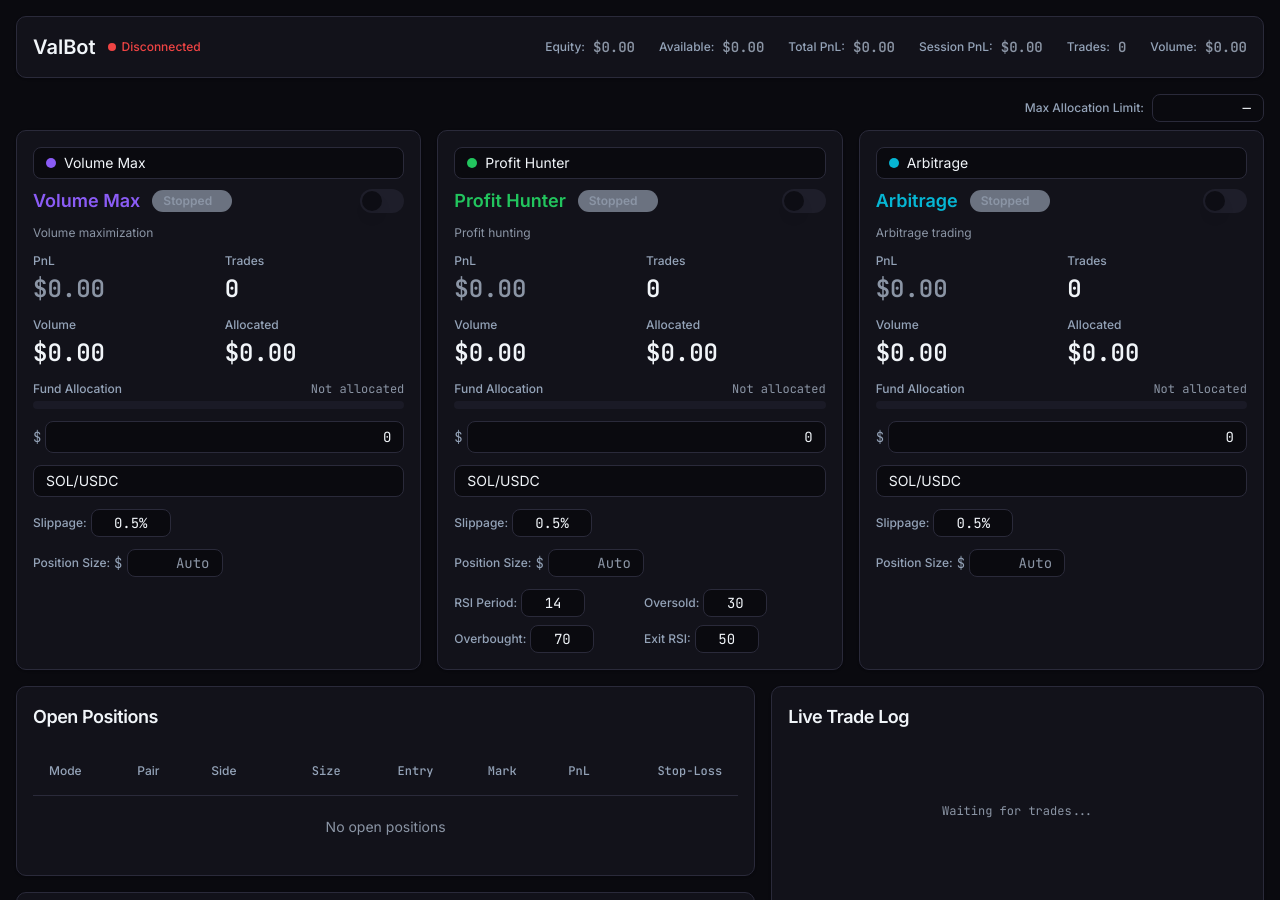
it: App (Dashboard Layout) › dropdown shows all strategies with disabled ones marked "(in use)"
Click the first strategy selector
Click the button with aria-label "Select strategy": (105, 162) [33, 147, 404, 179]
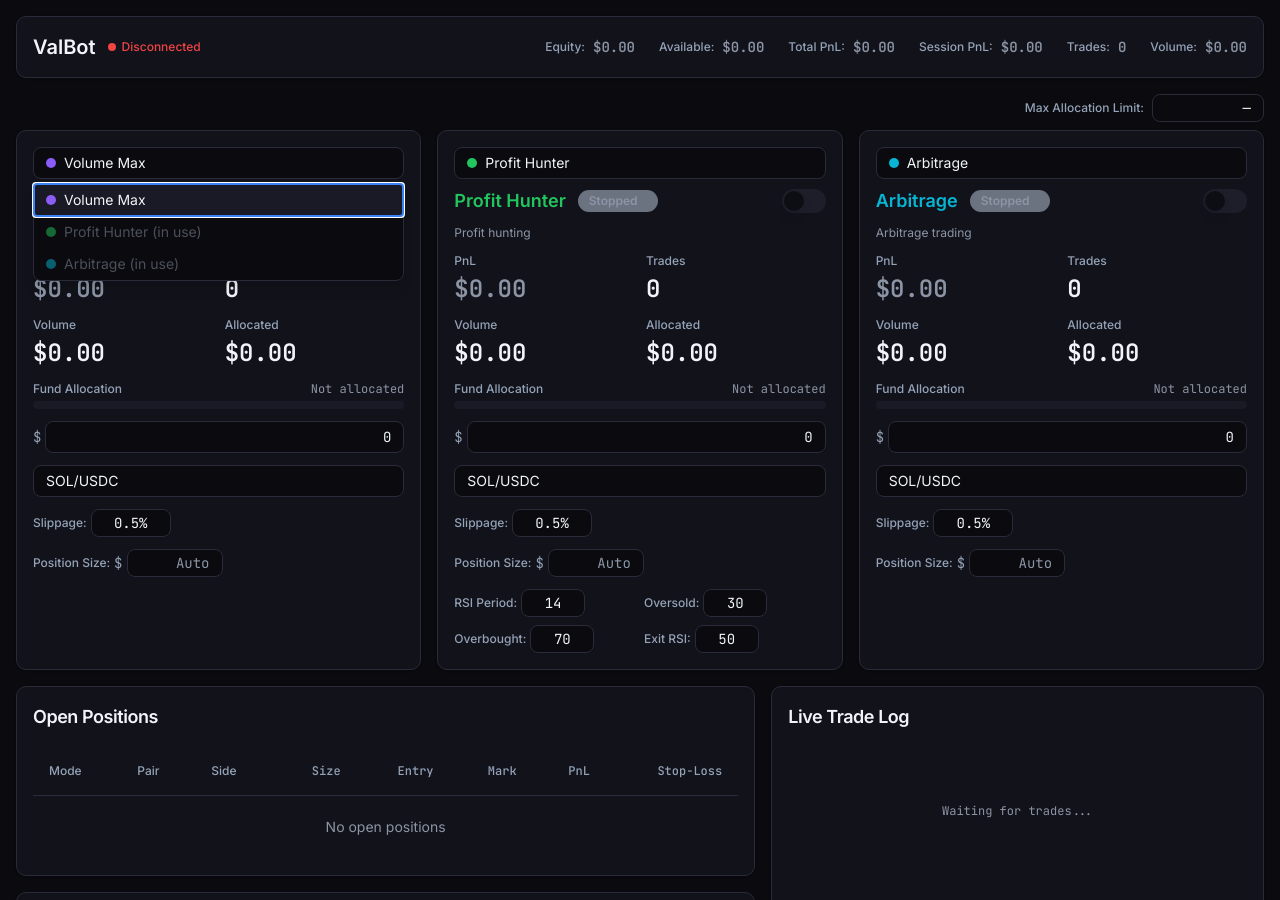
Expected: the list is shown, [33, 183, 404, 281]
